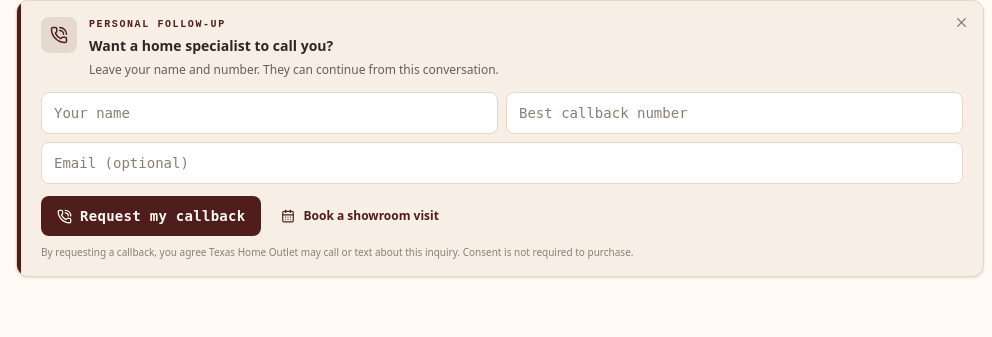
ChatCallbackCard › keeps the form actionable when storage fails
Type "Maria Buyer" into the field labelled "Your name" at x=270, y=113, box [41,92,498,134]
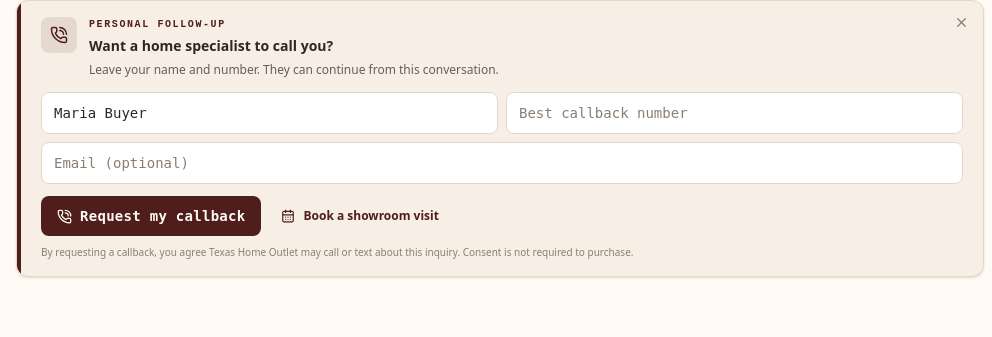
Type "2813243020" into the field labelled "Best callback number" at x=734, y=113, box [506,92,963,134]
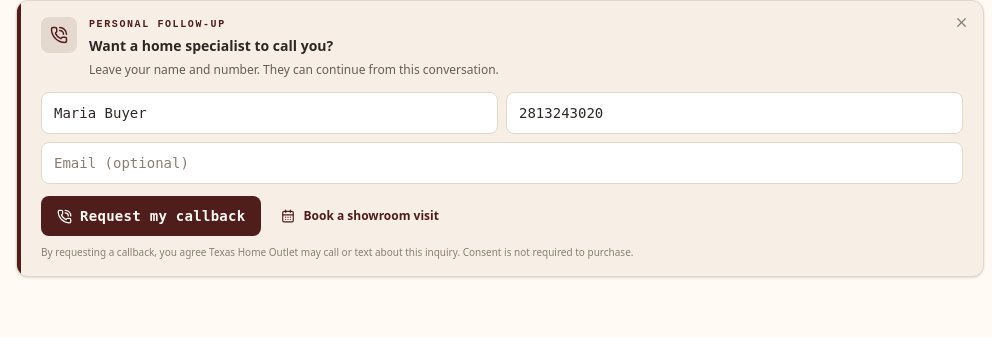
Click the button "Request my callback" at x=151, y=216, box [41,196,262,236]
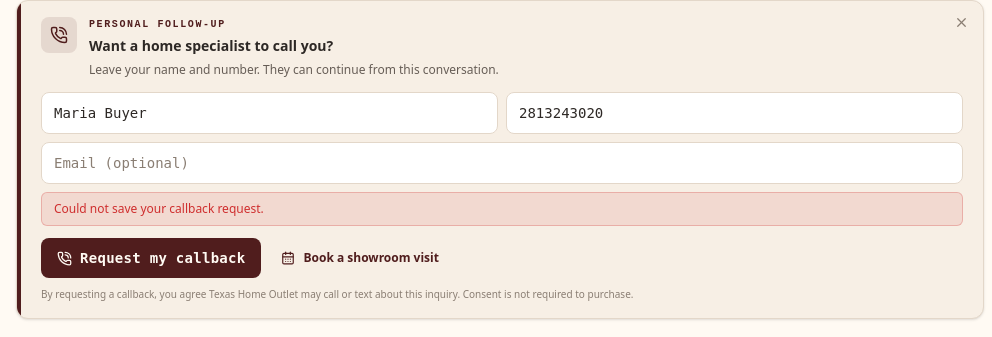
Expected: the text "Could not save your callback request." is shown, [41,192,963,226]
